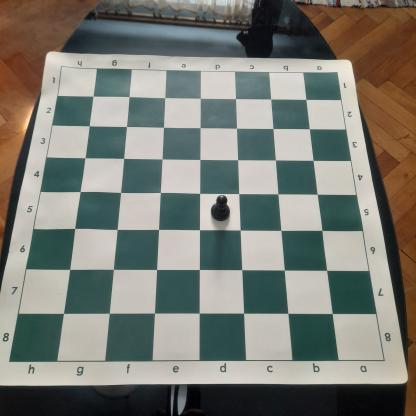black-pawn: (209, 194, 233, 222)
